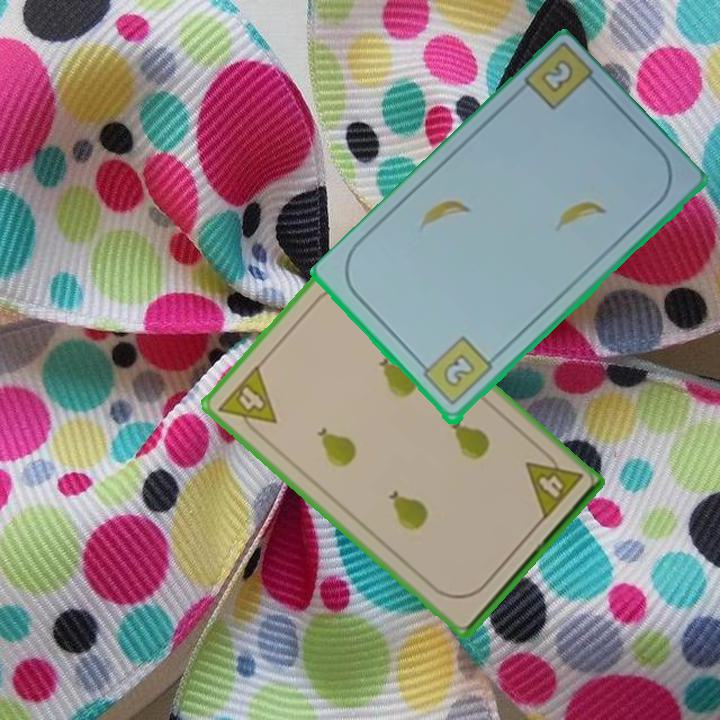2b: (415, 333, 495, 410), (537, 56, 577, 97)
4p: (214, 361, 280, 442), (521, 445, 586, 523)
